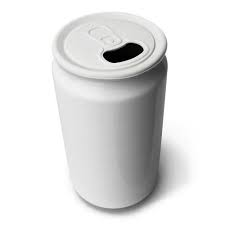Metal: (52, 12, 167, 209)
